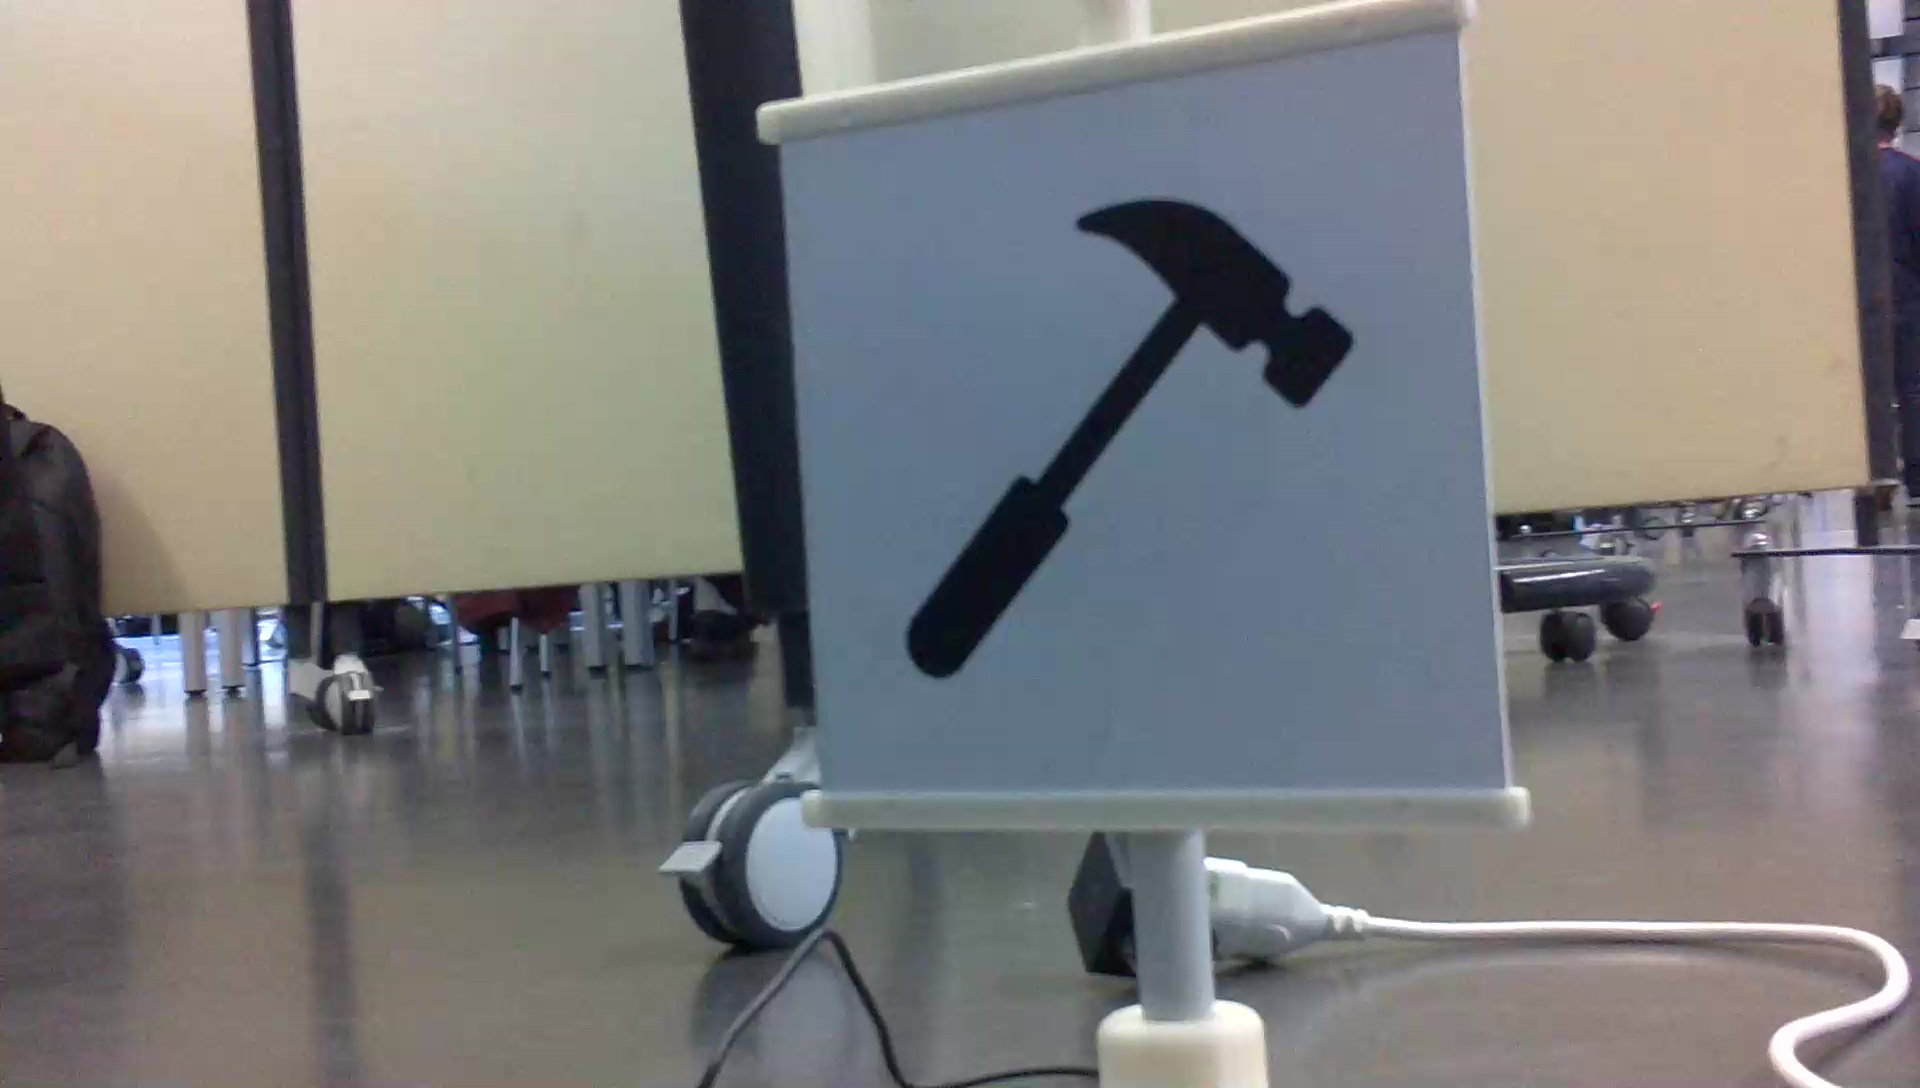hammer: (890, 185, 1362, 690)
